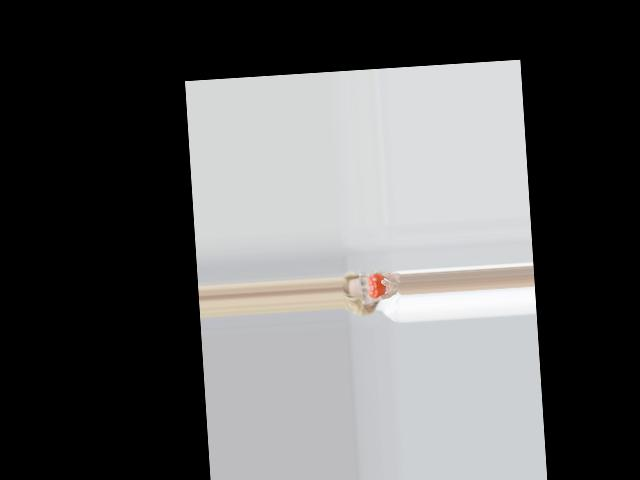tomato: (368, 273, 386, 299)
